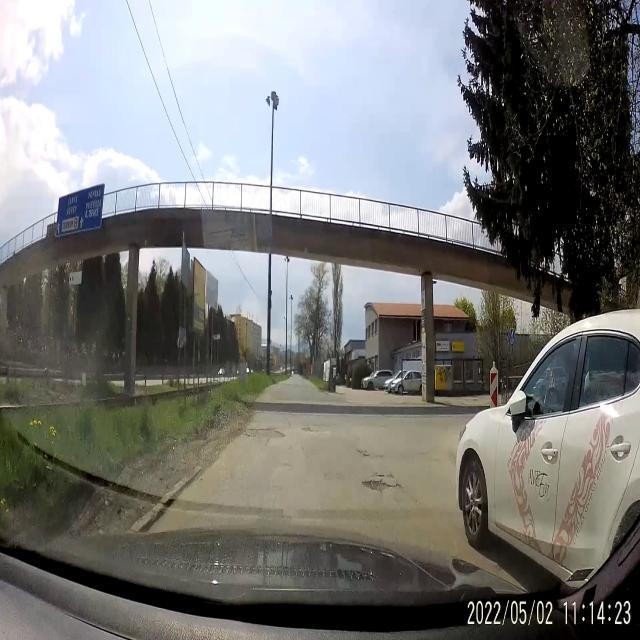Pothole: (242, 412, 287, 448), (360, 470, 404, 497), (354, 444, 375, 462), (300, 422, 316, 436)
